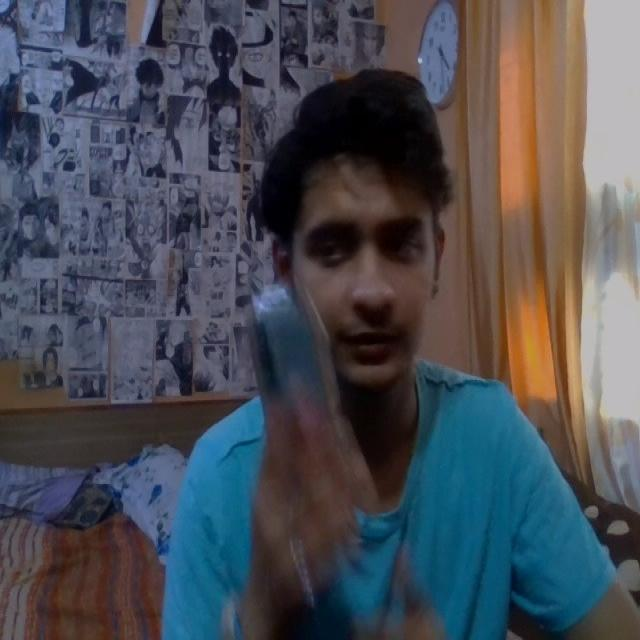oncall: (231, 63, 476, 461)
phone: (247, 280, 348, 444)
